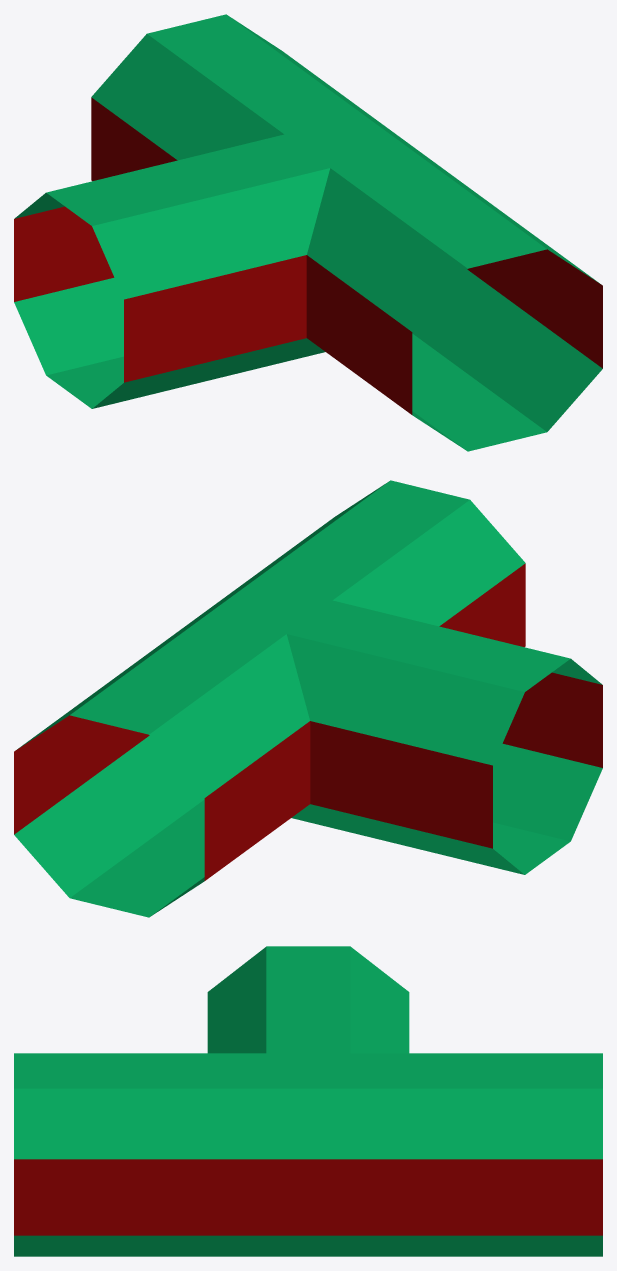
File: T Corridor.fbx
3 views of the same model, one above another, from view 1: azimuth 30°, elevation 25°; view 2: azimuth 150°, elevation 25°; view 3: azimuth 270°, elevation 25° (orthographic). The views are drawn at different scales.
Parts seen in each view (by area): view 1: T_Corridor1; view 2: T_Corridor1; view 3: T_Corridor1.
Boxes of the visible parts, box(x1,y1,x2,y2) form: T_Corridor1: box(14, 14, 602, 451); T_Corridor1: box(14, 480, 602, 917); T_Corridor1: box(14, 946, 602, 1256).
Bounding box in the file's own units: 47 × 22 × 70.
